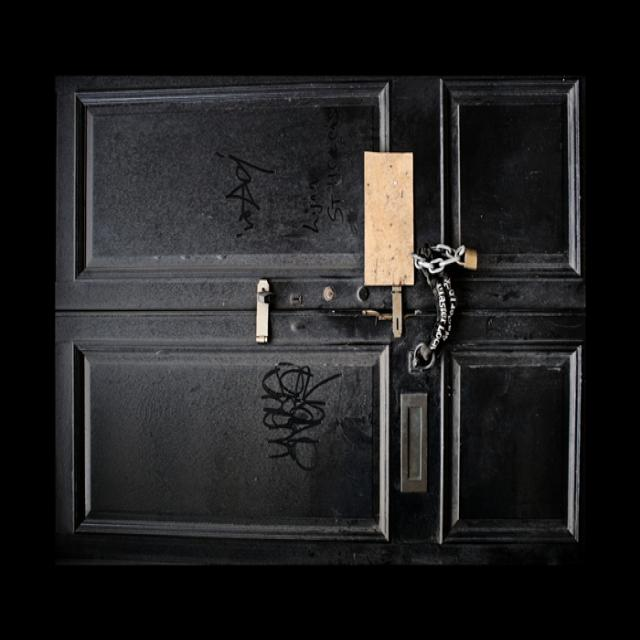close: (62, 83, 585, 558)
